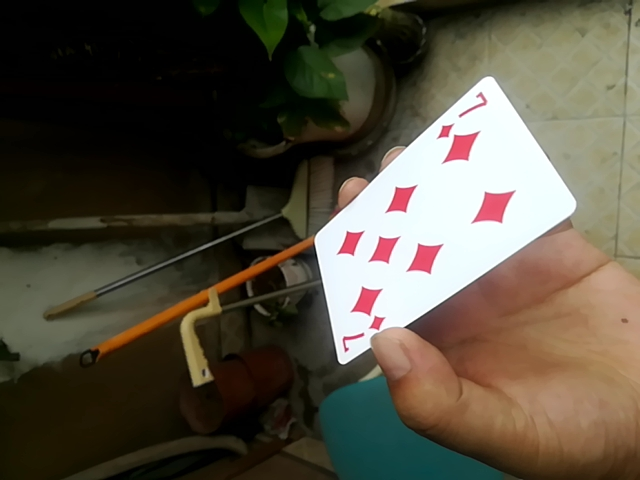fk 7: (302, 82, 580, 376)
